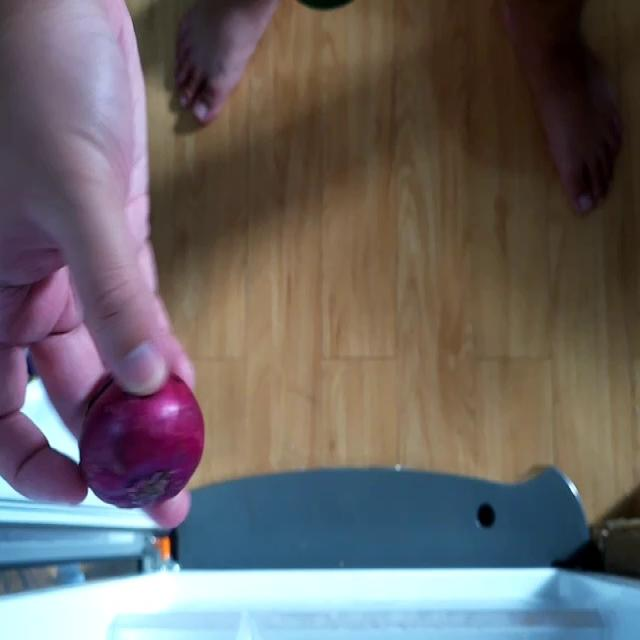onion: (76, 367, 205, 512)
